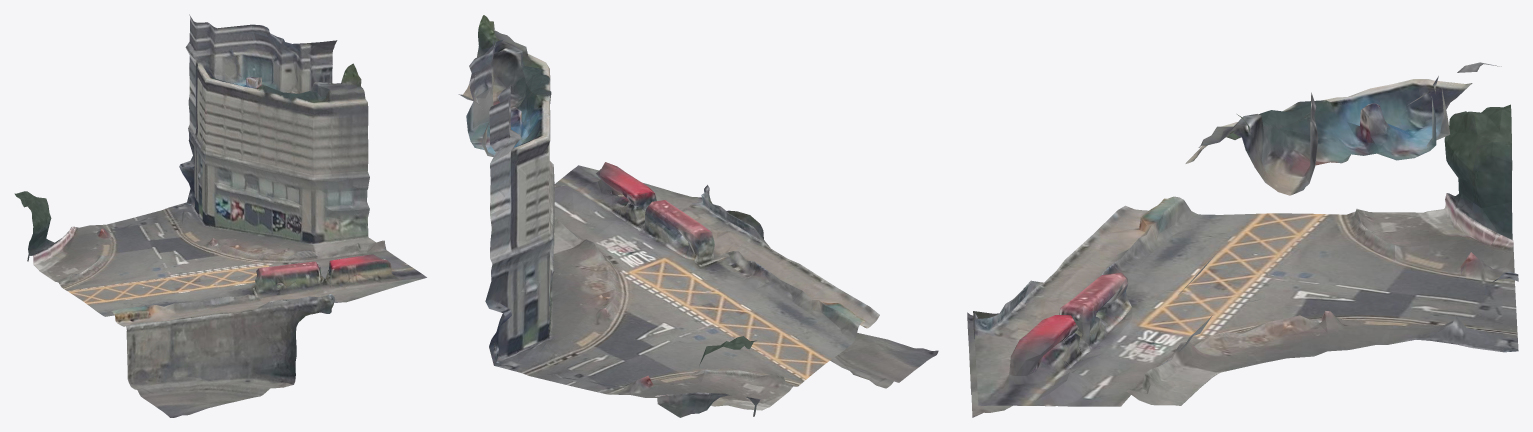
File: Tile_+011_+009_L20_000003320.glb
3 renders of one model, left to right at view 1: azimuth 30°, elevation 25°; view 2: azimuth 150°, elevation 25°; view 3: azimuth 270°, elevation 25°, orthographic. The views are drawn at different scales.
Parts seen in each view (by area): view 1: rtc; view 2: rtc; view 3: rtc.
Boxes of the visible parts, box(x1,y1,x2,y2) form: rtc: box(14, 14, 426, 417); rtc: box(458, 15, 938, 417); rtc: box(967, 62, 1518, 417).
Size of the model in its own units: 32.14 by 29.12 by 32.48.
Materials: 1 (1 with a texture image).
